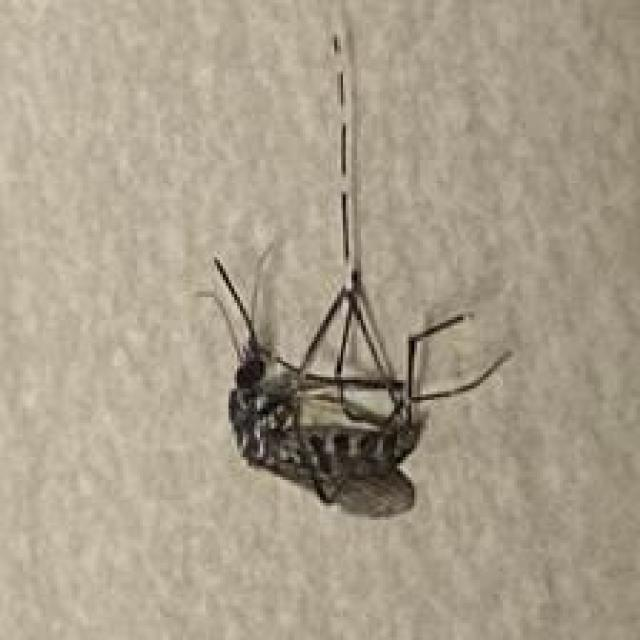Aedes albopictus: (195, 3, 514, 520)
